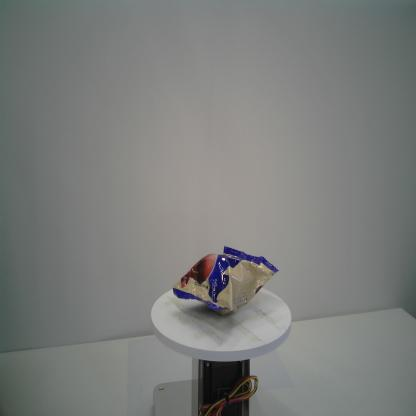Dessert: (173, 245, 279, 316)
